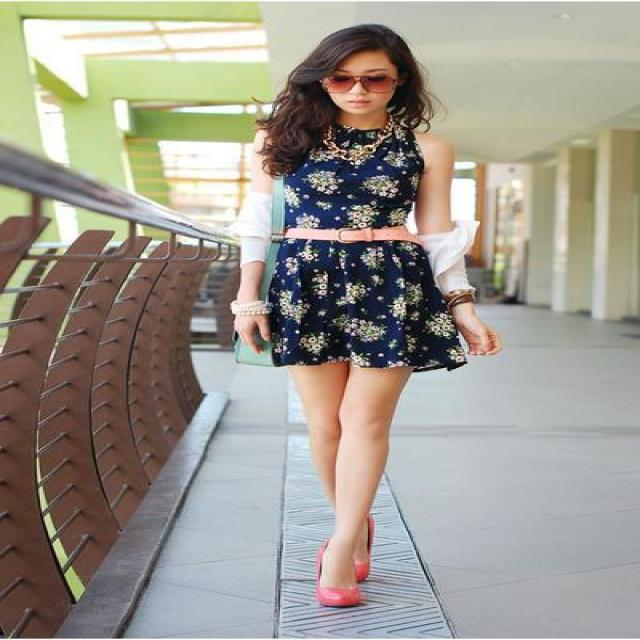dress: (251, 99, 466, 370)
shoe: (314, 567, 409, 605)
sunglass: (333, 65, 395, 100)
